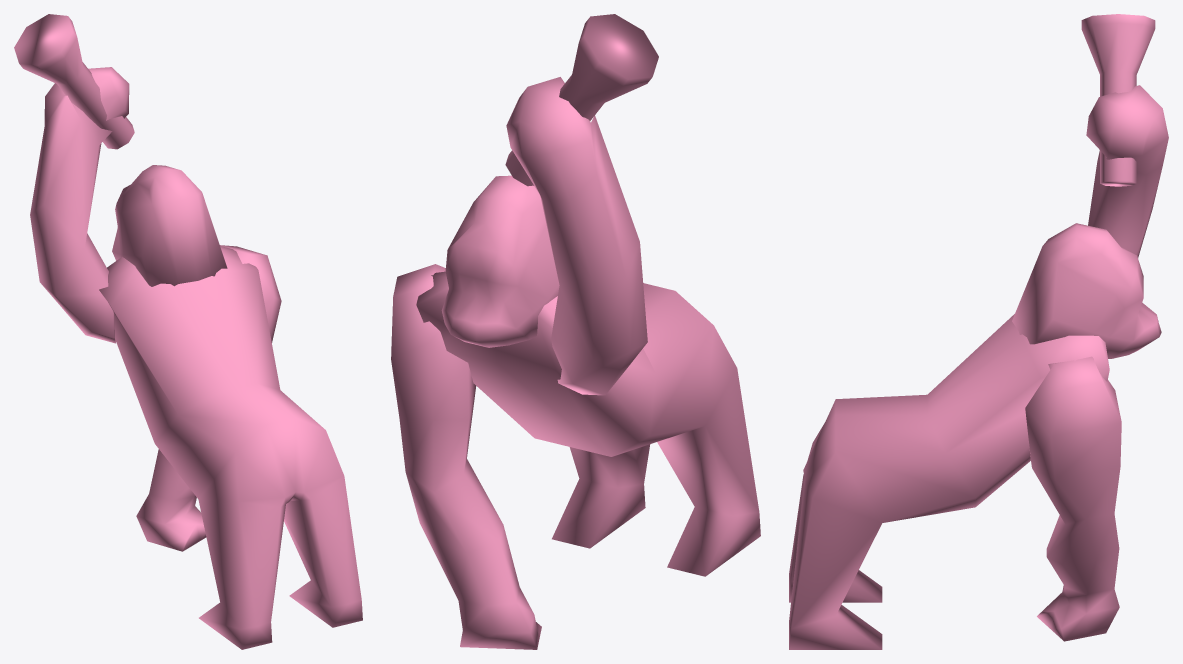
File: gorilla.fbx
3 views of the same model, side by side, from view 1: azimuth 30°, elevation 25°; view 2: azimuth 150°, elevation 25°; view 3: azimuth 270°, elevation 25° (orthographic). The views are drawn at different scales.
Parts seen in each view (by area): view 1: Plane, Cube, Plane.002, Cylinder, Plane.001; view 2: Plane, Cube, Plane.001, Plane.002, Cylinder; view 3: Plane, Plane.001, Plane.002, Cube, Cylinder.
Boxes of the visible parts, <box> form: Plane: <box>99,246,362,649</box>; Cube: <box>30,67,129,343</box>; Plane.002: <box>112,165,227,286</box>; Cylinder: <box>14,14,134,149</box>; Plane.001: <box>136,245,281,551</box>; Plane: <box>416,271,760,576</box>; Cube: <box>506,77,647,395</box>; Plane.001: <box>391,264,541,649</box>; Plane.002: <box>441,175,559,347</box>; Cylinder: <box>505,14,658,186</box>; Plane: <box>789,314,1109,649</box>; Plane.001: <box>1025,356,1121,641</box>; Plane.002: <box>1012,223,1161,358</box>; Cube: <box>1086,85,1168,257</box>; Cylinder: <box>1081,14,1155,186</box>.
Size of the model in its own units: 611 by 814 by 1331.
